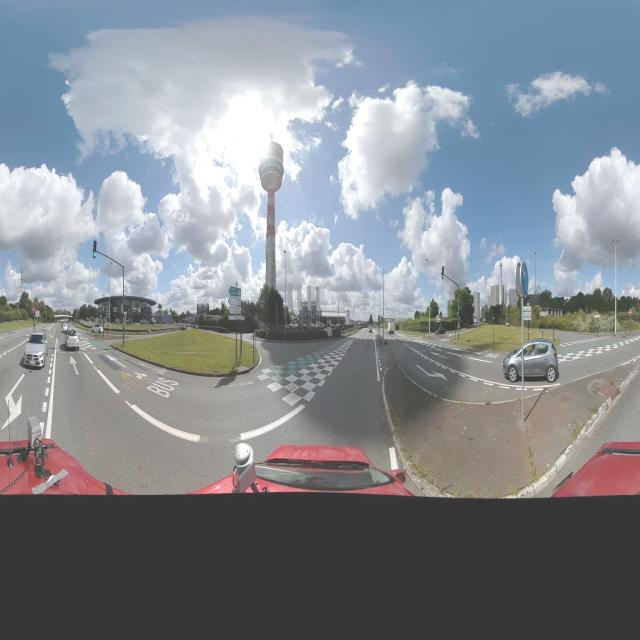car: (502, 338, 560, 384), (24, 330, 48, 370), (64, 325, 80, 353), (91, 323, 107, 333), (386, 321, 396, 333), (436, 328, 448, 335), (367, 324, 373, 334)
